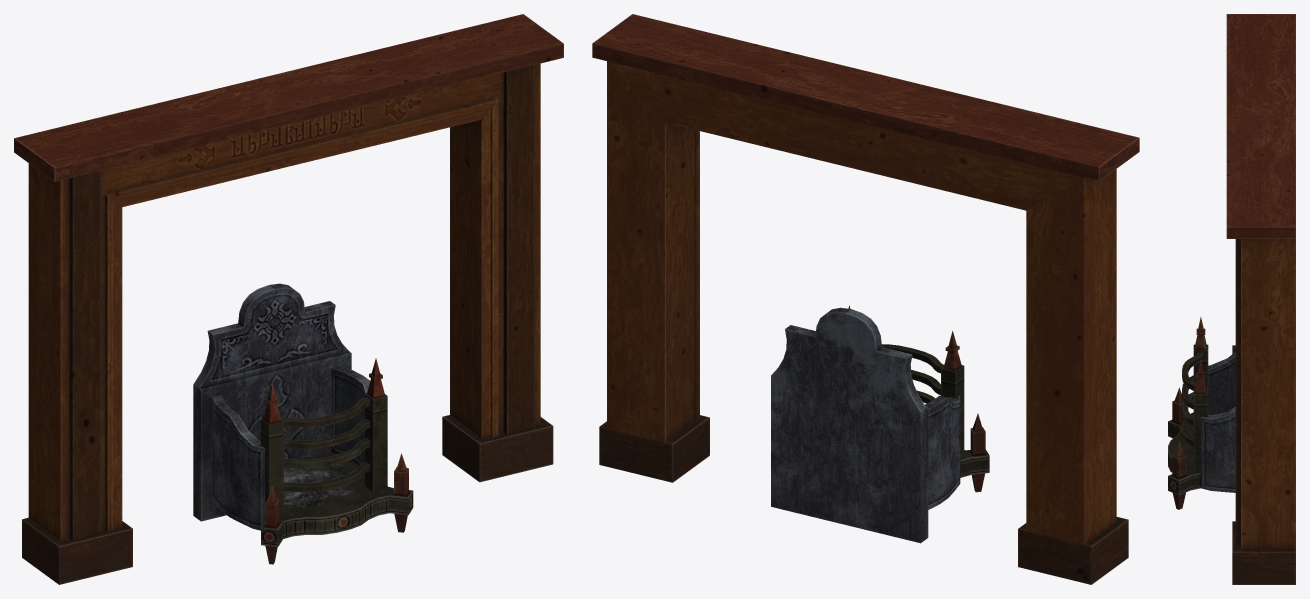
The model's file is DS_WizLab_Arch_Chimney.fbx.
3 renders of one model, left to right at view 1: azimuth 30°, elevation 25°; view 2: azimuth 150°, elevation 25°; view 3: azimuth 270°, elevation 25°, orthographic. The views are drawn at different scales.
Visible parts, largest first — view 1: DS_WizLab_Arch_Chimney; view 2: DS_WizLab_Arch_Chimney; view 3: DS_WizLab_Arch_Chimney.
Boxes of the visible parts, x1,y1,x2,y2 form: DS_WizLab_Arch_Chimney: [14, 14, 563, 584]; DS_WizLab_Arch_Chimney: [592, 14, 1139, 584]; DS_WizLab_Arch_Chimney: [1168, 14, 1295, 584].
Size of the model in its own units: 173 by 137 by 43.95.
Materials: 1 (1 with a texture image).
